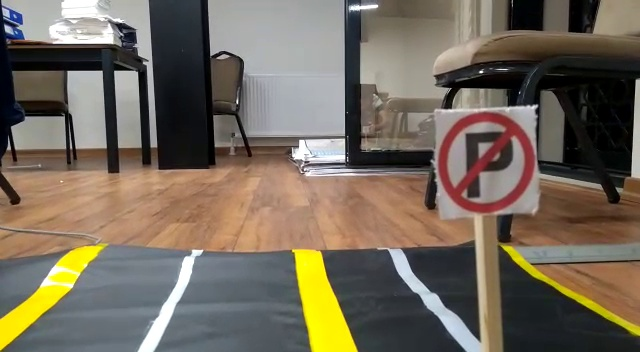park_yapilmaz: (431, 108, 539, 217)
